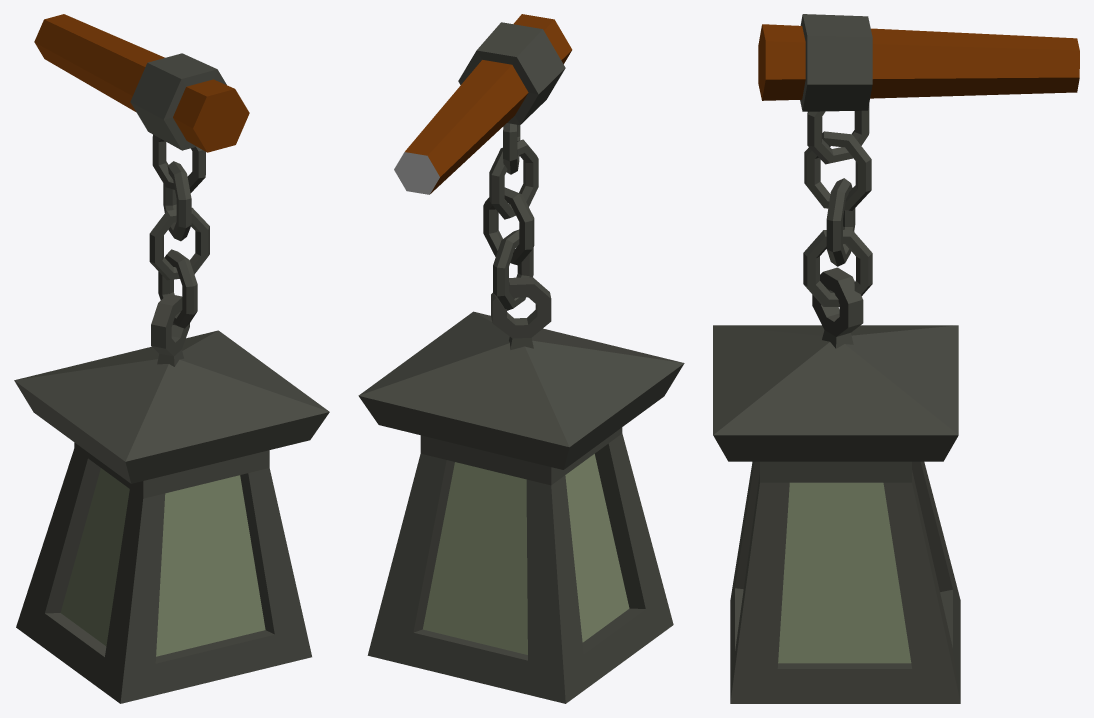
The model's file is Cementery_Light.fbx.
The picture shows the model from 3 angles, left to right: view 1: azimuth 30°, elevation 25°; view 2: azimuth 150°, elevation 25°; view 3: azimuth 270°, elevation 25°; orthographic projection. The views are drawn at different scales.
Parts seen in each view (by area): view 1: Light.001; view 2: Light.001; view 3: Light.001.
Part boxes in pixels (x1,y1,x2,y2): Light.001: (14, 14, 329, 703); Light.001: (358, 14, 684, 703); Light.001: (713, 14, 1079, 703).
Bounding box in the file's own units: 26 × 70.21 × 36.62.
